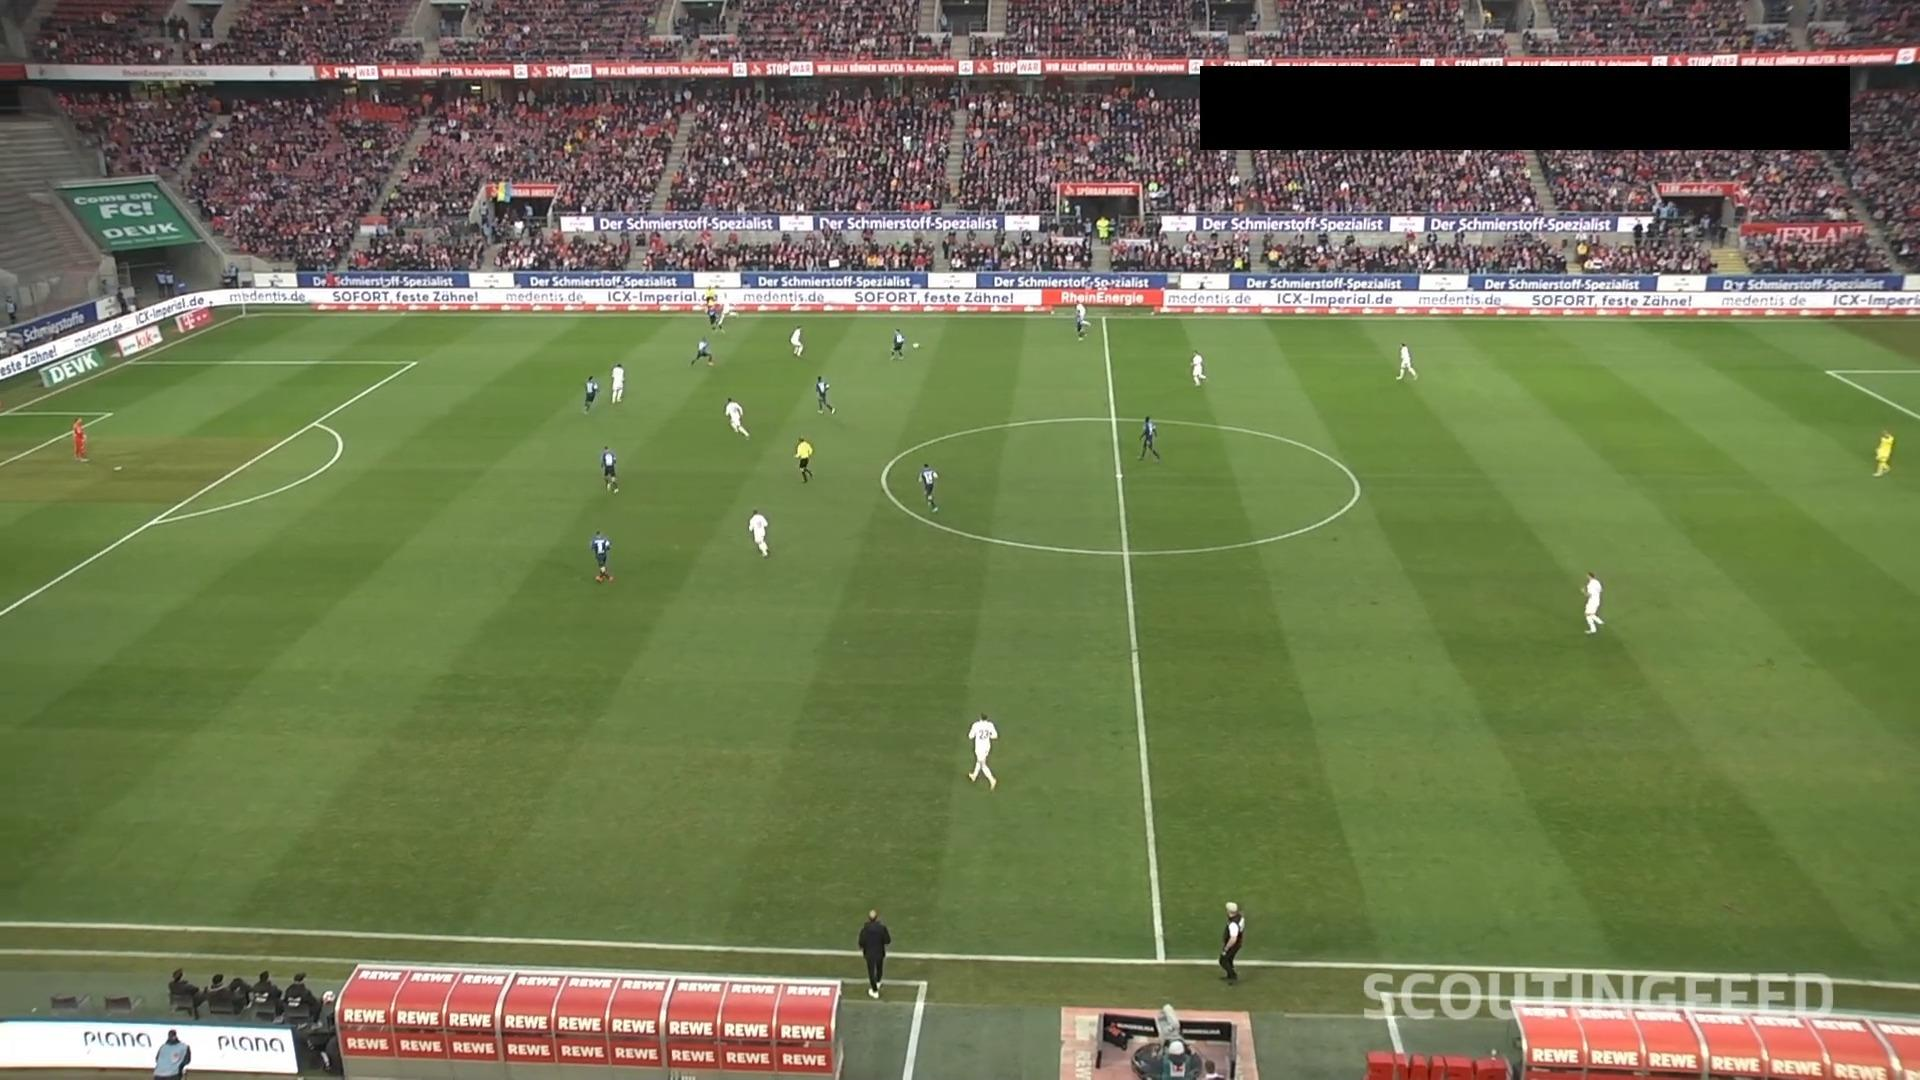ball: (911, 342, 922, 351)
